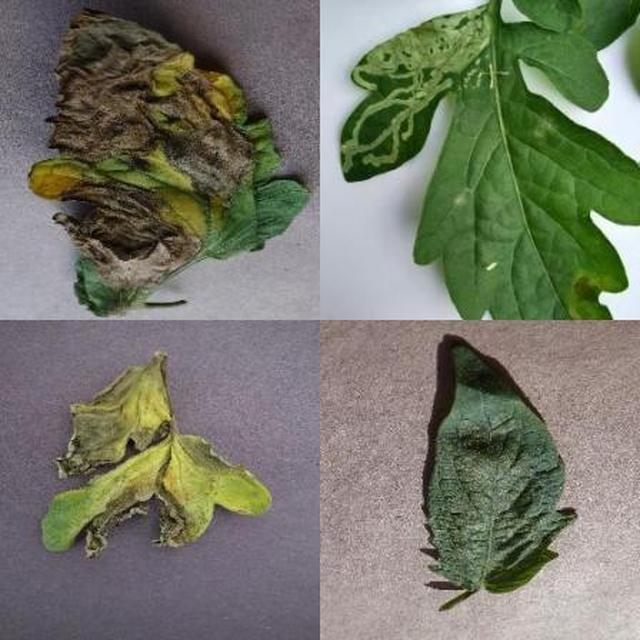Late Blight Leaf: (213, 229, 640, 640)
